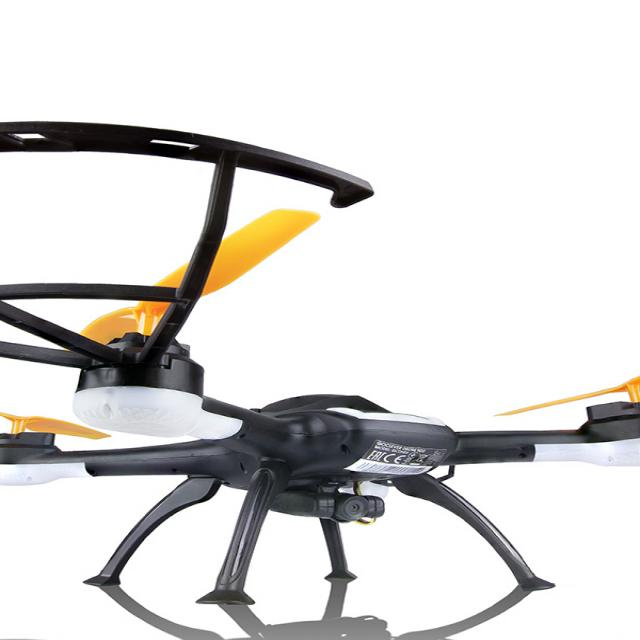drone: (0, 134, 640, 543)
